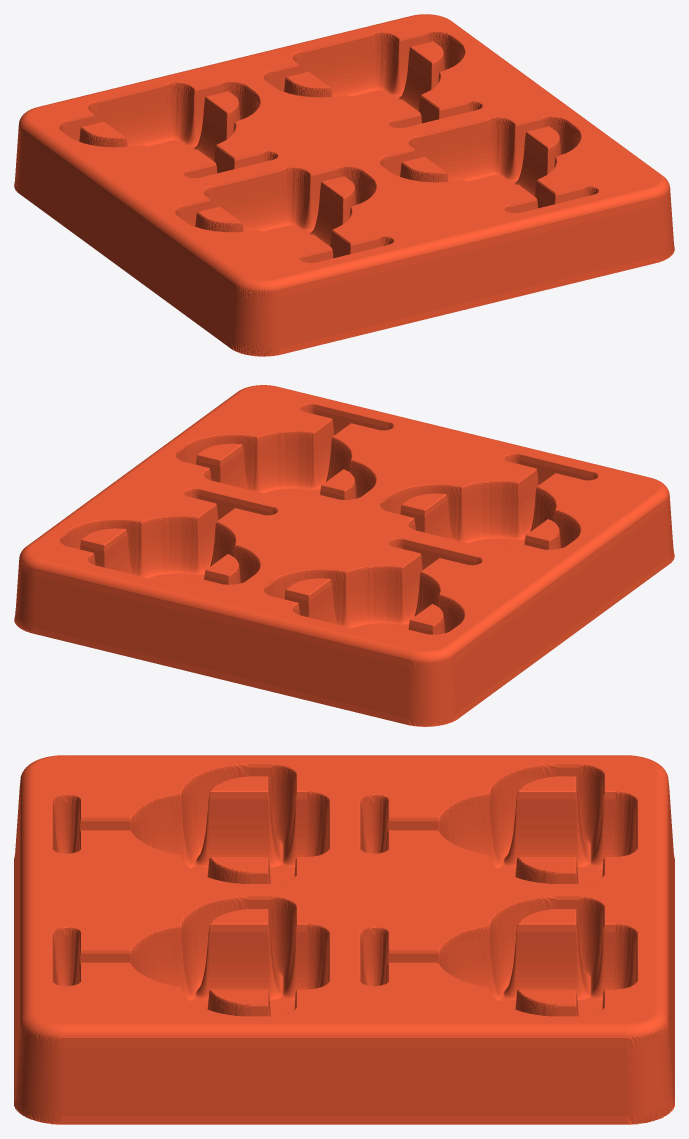
Rendered from mold.glb.
3 views of the same model, one above another, from view 1: azimuth 30°, elevation 25°; view 2: azimuth 150°, elevation 25°; view 3: azimuth 270°, elevation 25° (orthographic). The views are drawn at different scales.
Parts seen in each view (by area): view 1: geometry_0; view 2: geometry_0; view 3: geometry_0.
Boxes of the visible parts, x1,y1,x2,y2 form: geometry_0: (14, 14, 674, 356); geometry_0: (14, 385, 674, 726); geometry_0: (14, 755, 674, 1124).
Bounding box in the file's own units: 0.1218 × 0.0185 × 0.1198.
